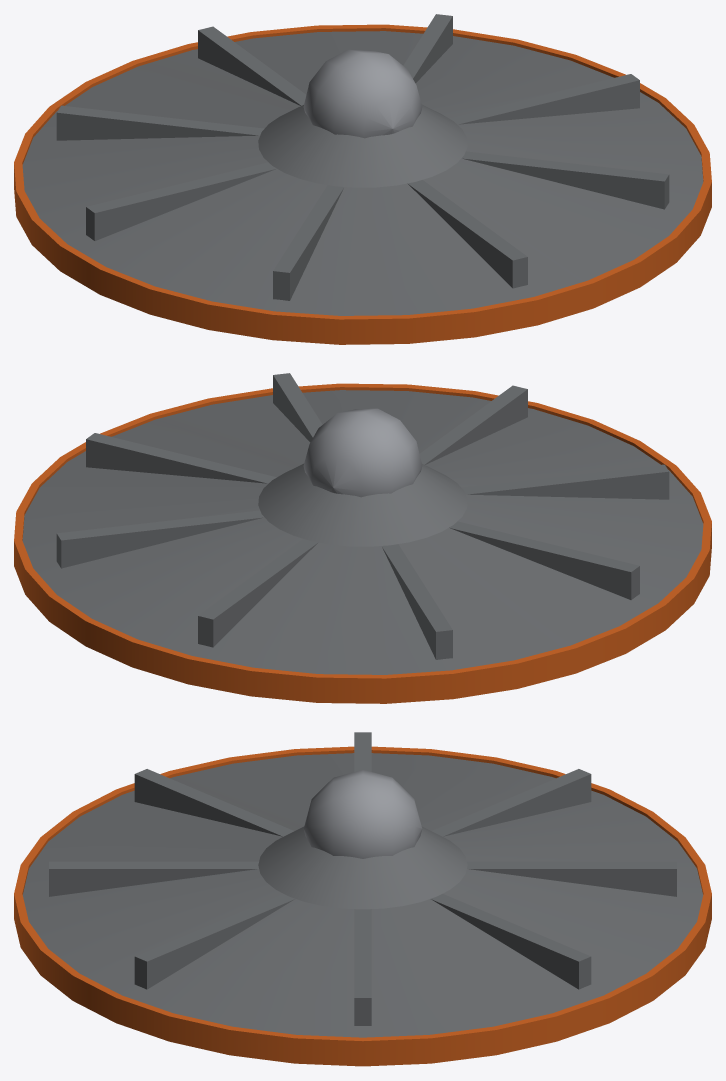
File: po4_foot.obj
The picture shows the model from 3 angles, top to bottom: view 1: azimuth 30°, elevation 25°; view 2: azimuth 150°, elevation 25°; view 3: azimuth 270°, elevation 25°; orthographic projection.
Parts seen in each view (by area): view 1: po4_foot; view 2: po4_foot; view 3: po4_foot.
Boxes of the visible parts, bbox=[...] form: po4_foot: bbox=[14, 14, 711, 344]; po4_foot: bbox=[14, 373, 711, 703]; po4_foot: bbox=[14, 732, 711, 1066].
Bounding box in the file's own units: 2 × 0.485 × 2.
